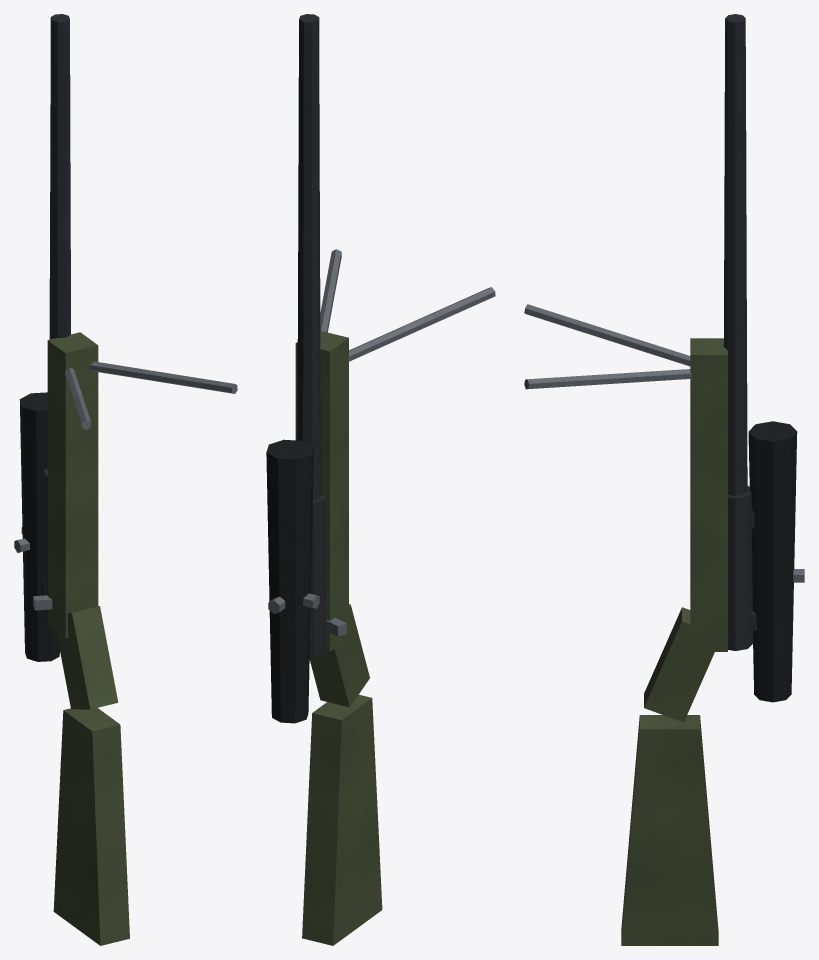
Rendered from weapon_sniper.glb.
3 renders of one model, left to right at view 1: azimuth 30°, elevation 25°; view 2: azimuth 150°, elevation 25°; view 3: azimuth 270°, elevation 25°, orthographic. The views are drawn at different scales.
Visible parts, largest first — view 1: Weapon_Sniper; view 2: Weapon_Sniper; view 3: Weapon_Sniper.
Part boxes in pixels (<box>): Weapon_Sniper: <box>14,14,237,945</box>; Weapon_Sniper: <box>266,14,495,945</box>; Weapon_Sniper: <box>524,14,804,945</box>.
Bounding box in the file's own units: 0.1995 × 1.08 × 0.2995.
4 materials, 4 textured.
